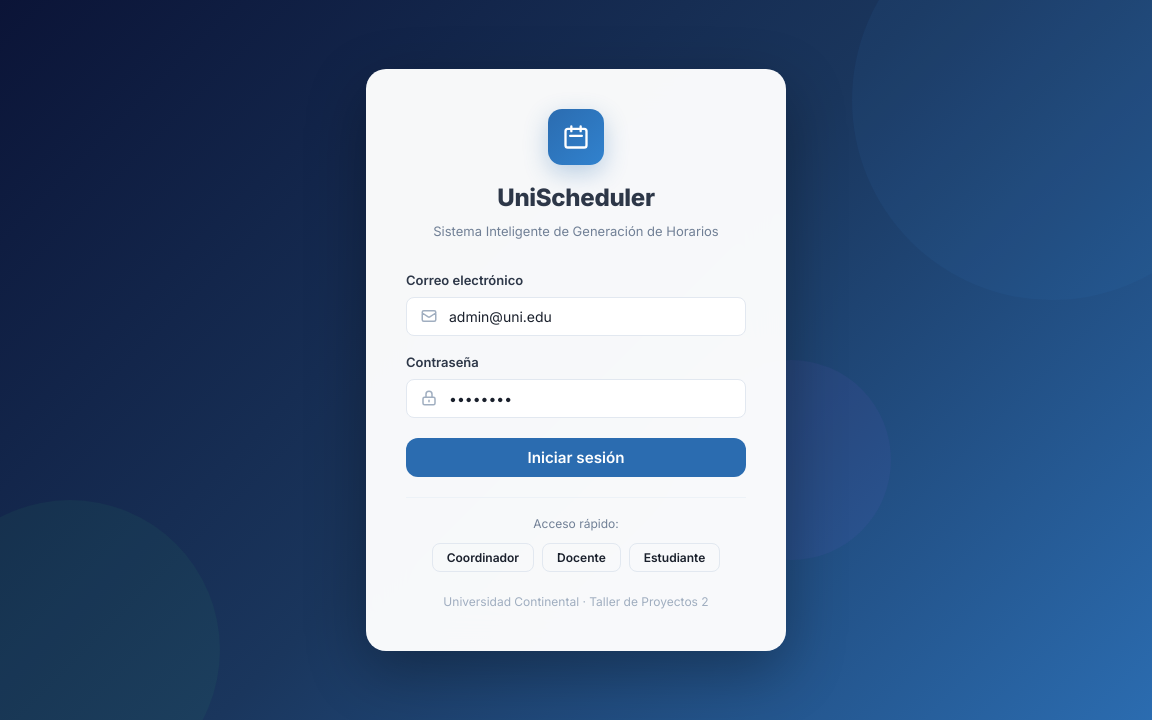
Test: Login - Acceptance Tests › debe mostrar error con credenciales inválidas
This screenshot has width=1152, height=720.
Replace the text in the field with id "email" with "invalido@test.com" at (576, 317), box [406, 297, 746, 336]
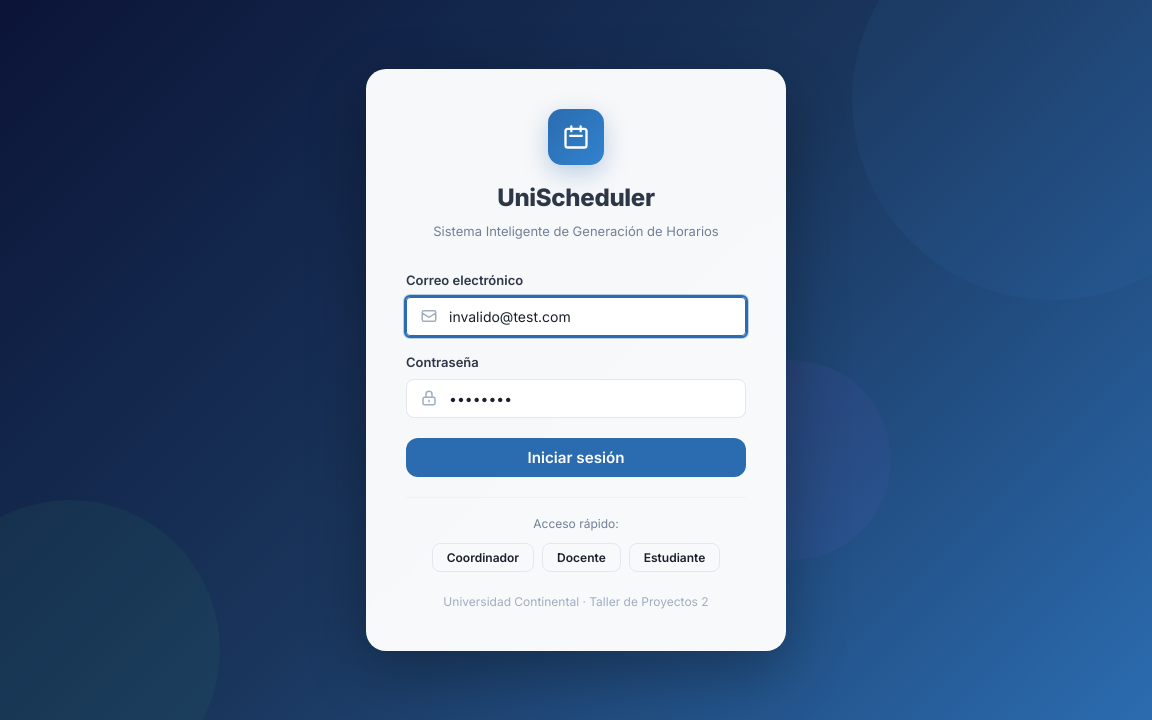
Type "wrongpass" into the password field labelled "Contraseña" at (576, 399), box [406, 379, 746, 418]
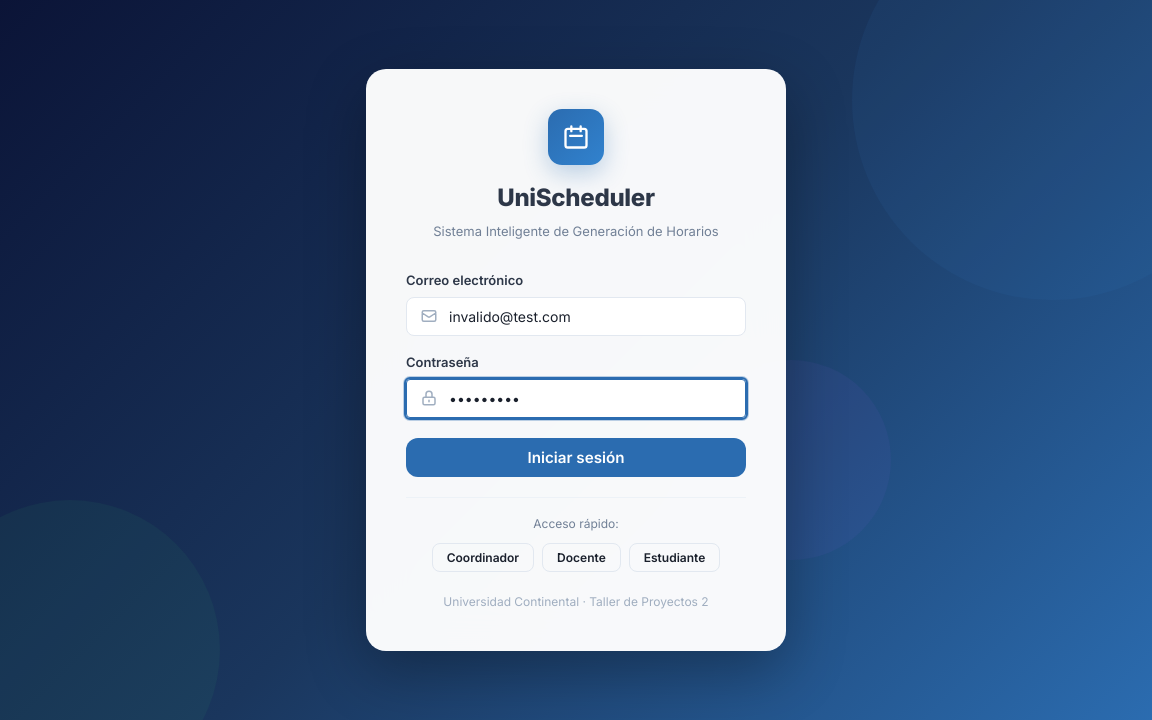
Click the button "Iniciar sesión" at (576, 458), box [406, 438, 746, 477]
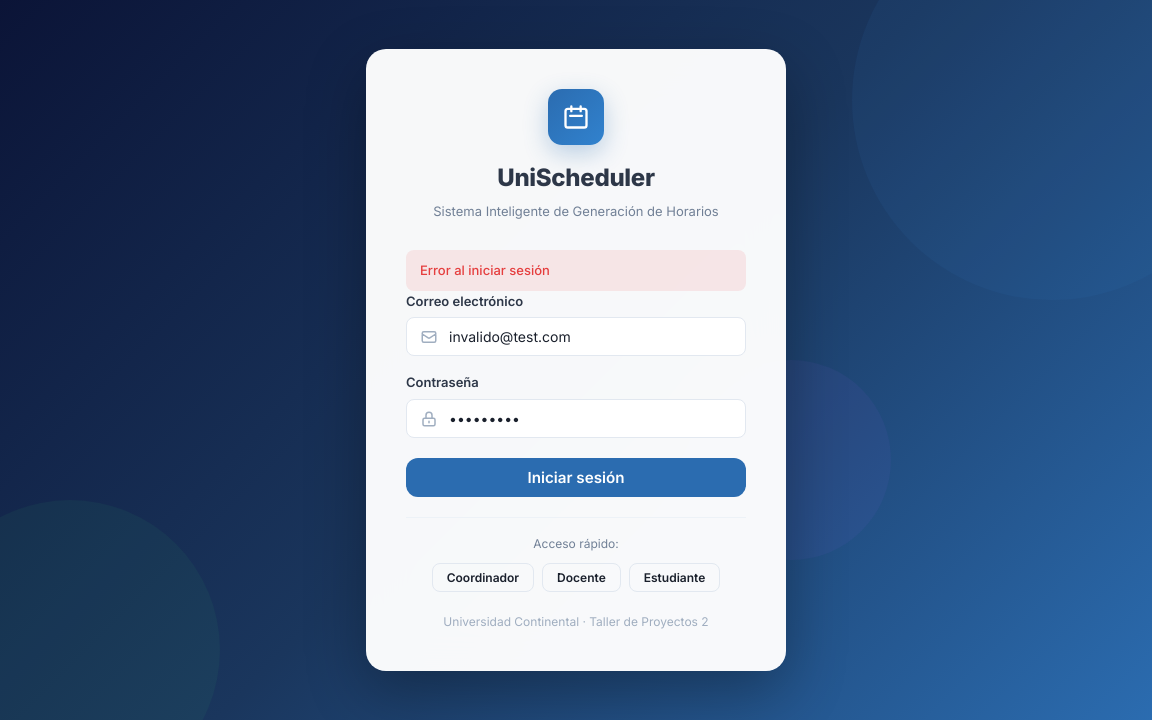
expect the text "Error al iniciar sesión" is shown: met, box [406, 250, 746, 290]
